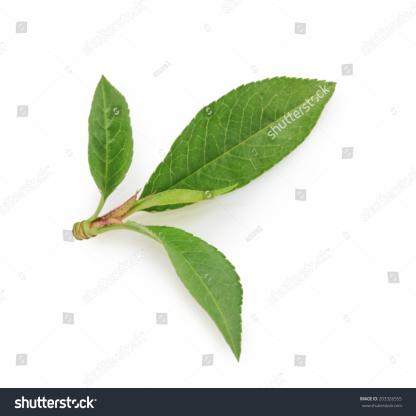peach leaf: (135, 75, 345, 212), (128, 220, 247, 362), (87, 62, 139, 201)
